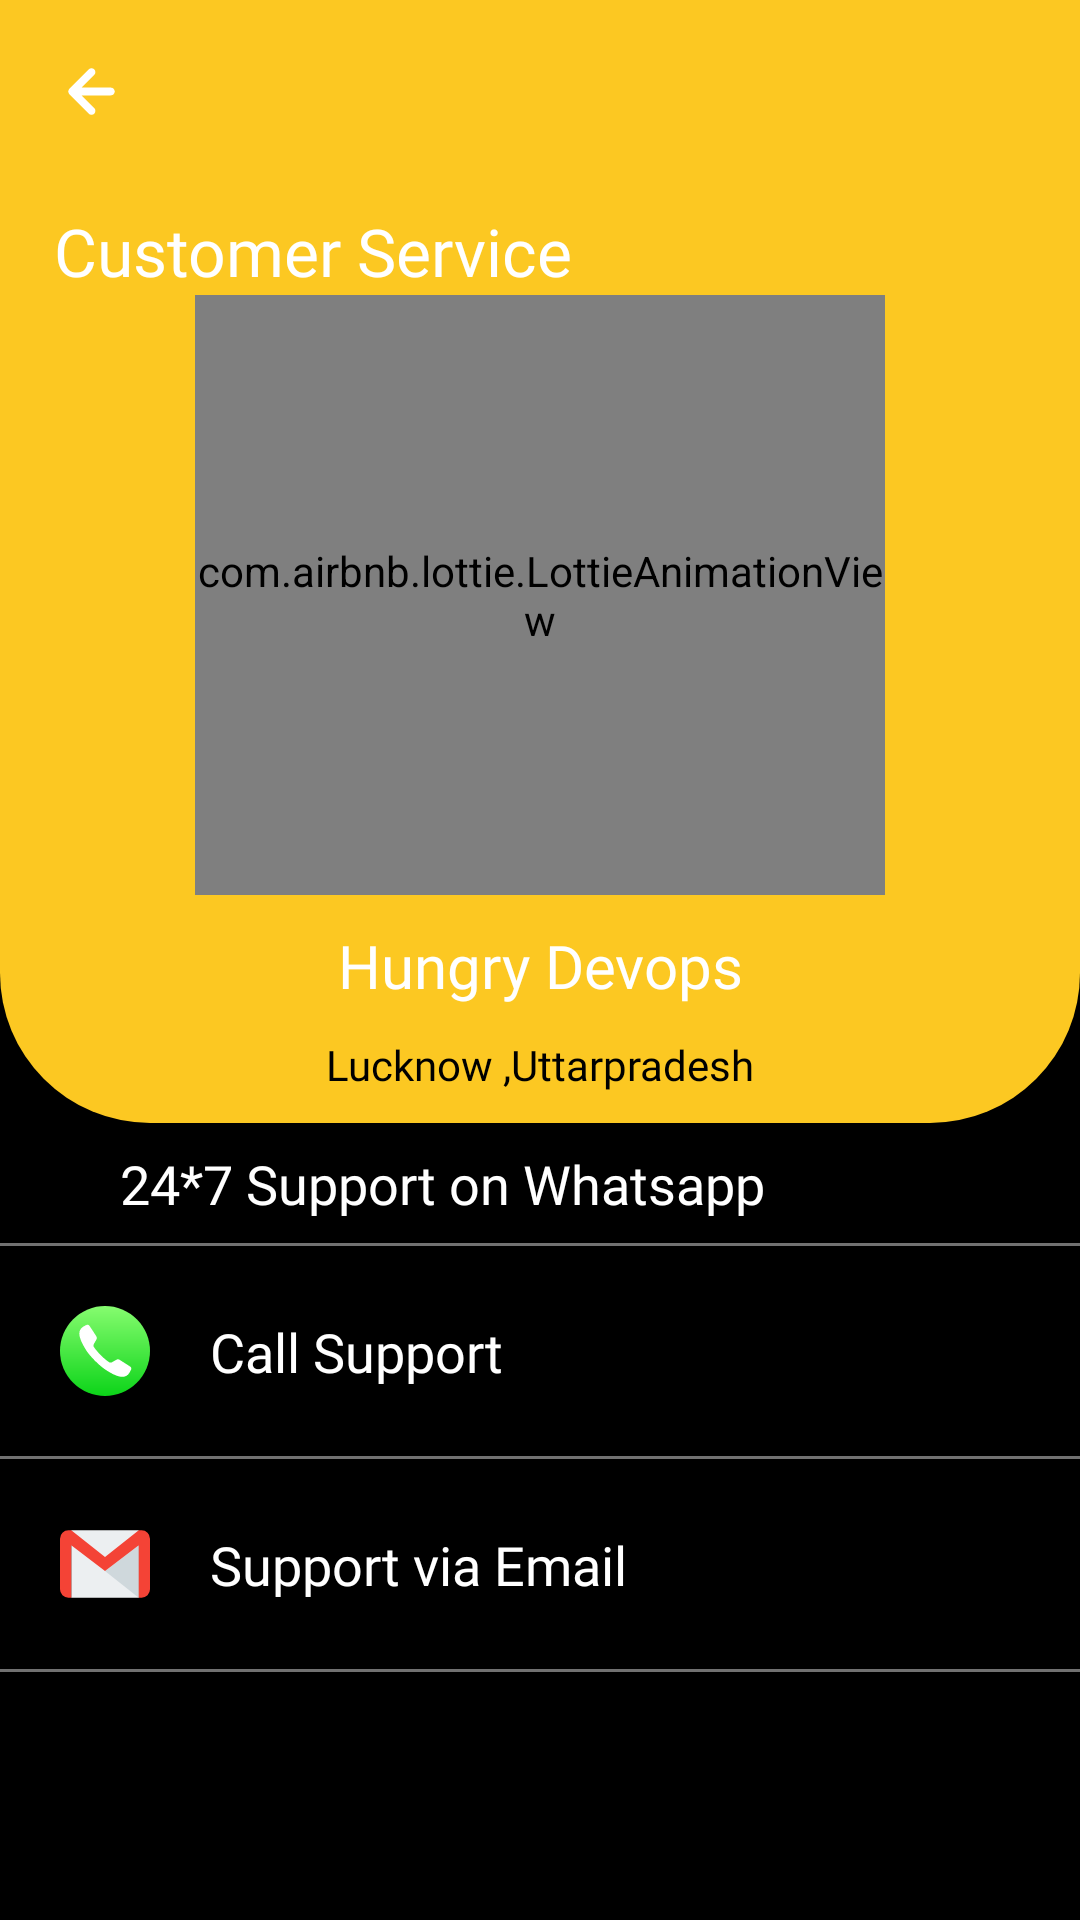

Icon bounding boxes for this 1080x1920 phone screenshot, format box=[x1, y1, x2, y2]:
back: box=[68, 68, 115, 115]
phone: box=[60, 1306, 150, 1396]
